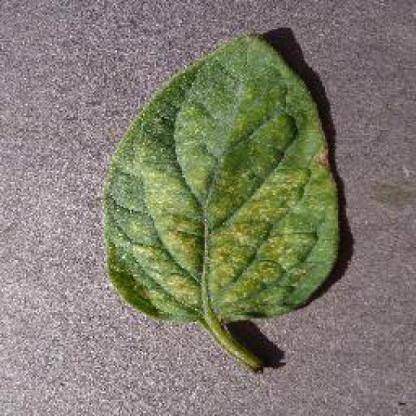Tomato_Spider_Mites: (106, 36, 340, 325)
